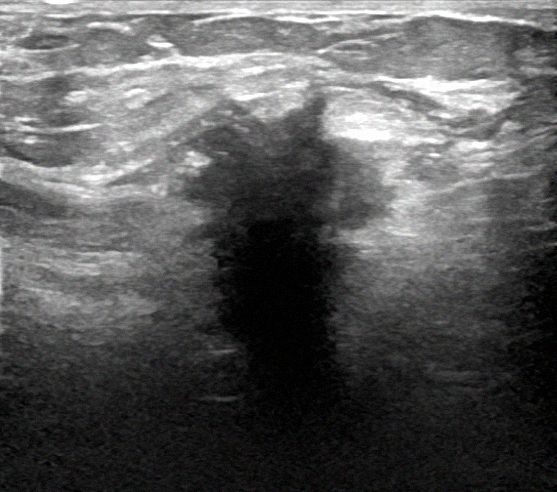Malignant: (183, 99, 356, 255)
